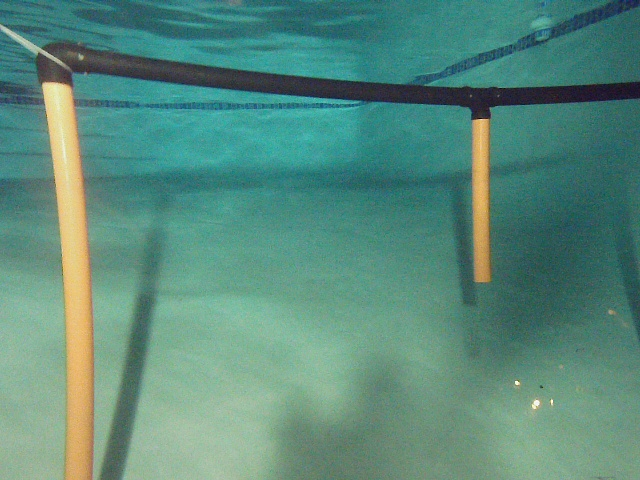Gate: (37, 71, 100, 480), (470, 103, 495, 291)
